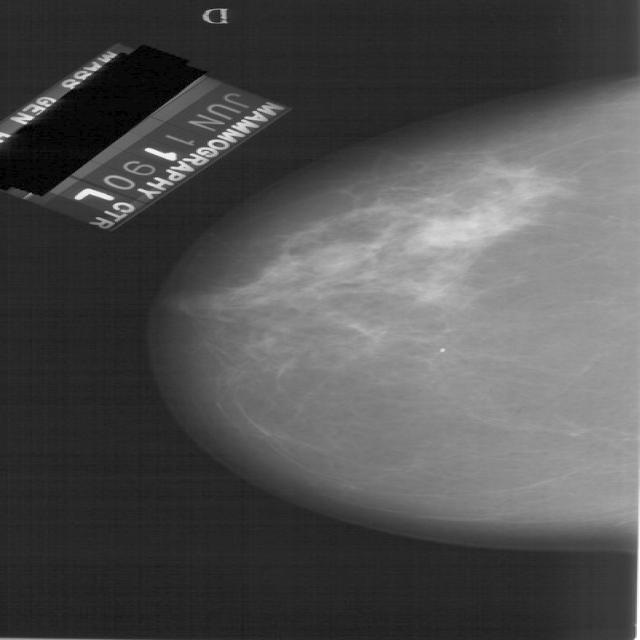tumour: (421, 206, 519, 247)
